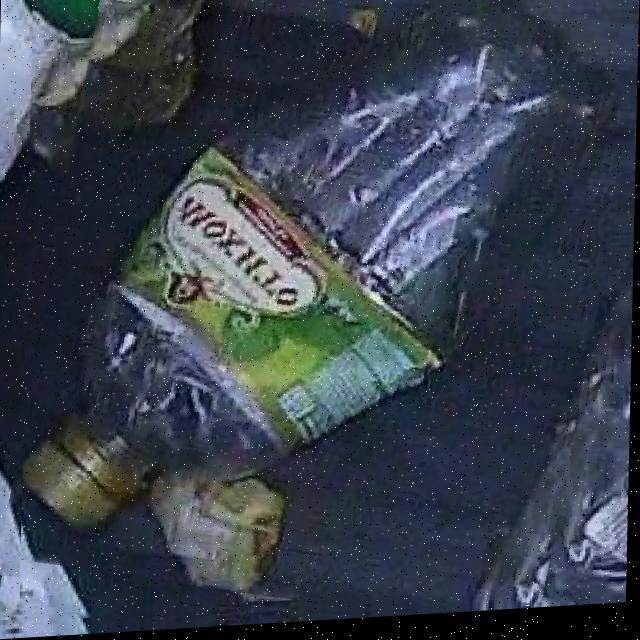litter: (21, 0, 632, 639)
